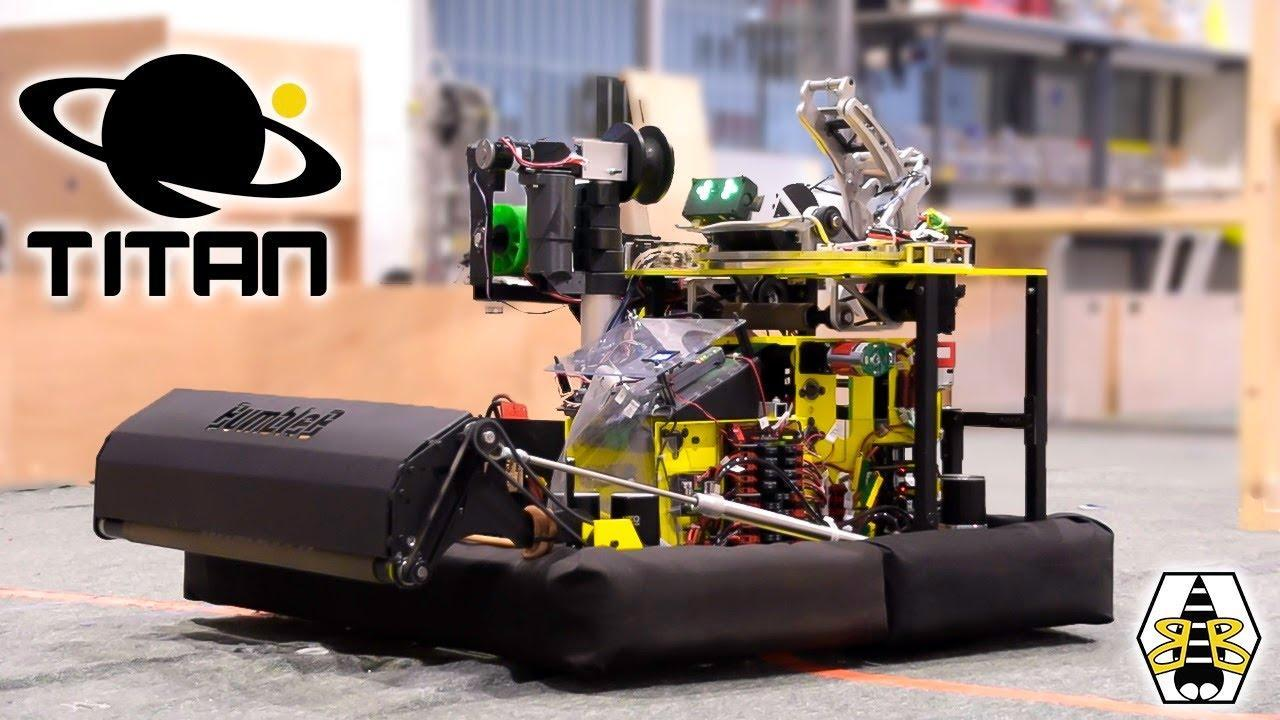robot: (79, 65, 1125, 685)
